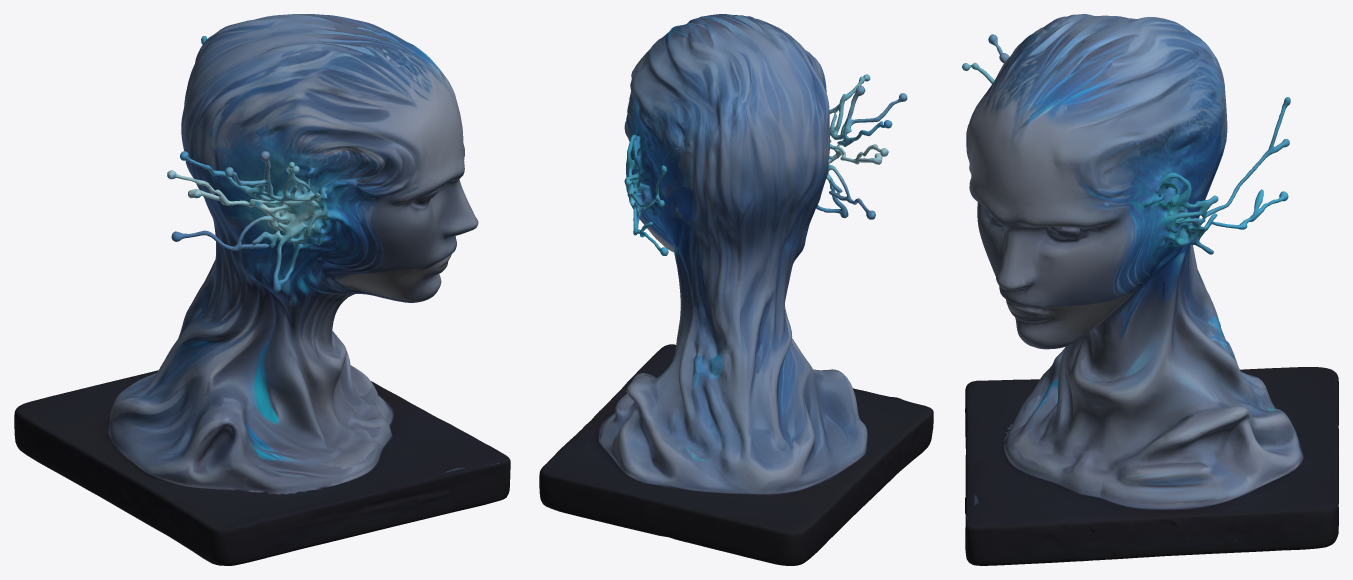
File: romantex_22.glb
The picture shows the model from 3 angles, left to right: view 1: azimuth 30°, elevation 25°; view 2: azimuth 150°, elevation 25°; view 3: azimuth 270°, elevation 25°; orthographic projection. The views are drawn at different scales.
Parts seen in each view (by area): view 1: texture_v130_hdr_21w_pbr_dino_11w.001; view 2: texture_v130_hdr_21w_pbr_dino_11w.001; view 3: texture_v130_hdr_21w_pbr_dino_11w.001.
Boxes of the visible parts, box(x1,y1,x2,y2) form: texture_v130_hdr_21w_pbr_dino_11w.001: box(14, 14, 510, 565); texture_v130_hdr_21w_pbr_dino_11w.001: box(539, 14, 933, 565); texture_v130_hdr_21w_pbr_dino_11w.001: box(962, 14, 1338, 565).
Bounding box in the file's own units: 1.48 × 2 × 1.45.
Materials: 1 (1 with a texture image).
